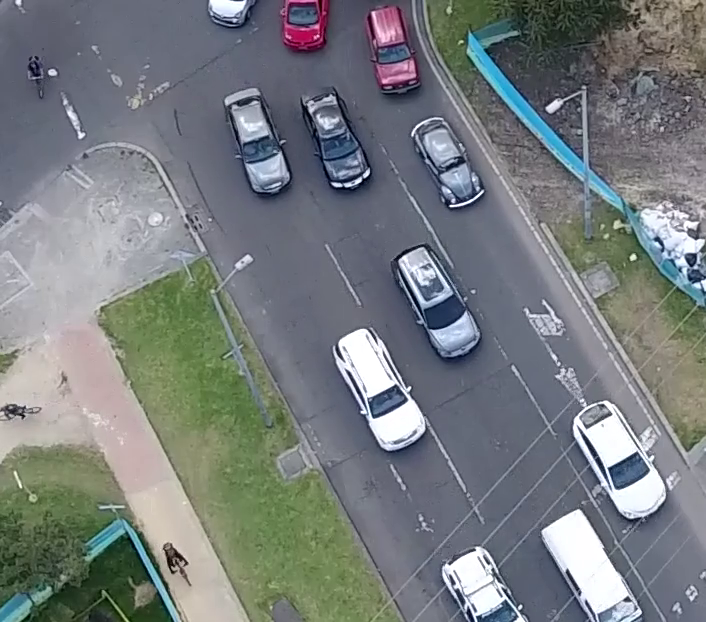car: (327, 325, 427, 454), (569, 393, 665, 521), (391, 245, 487, 362), (222, 87, 292, 199), (409, 113, 488, 212), (302, 90, 374, 197), (363, 2, 423, 96)
